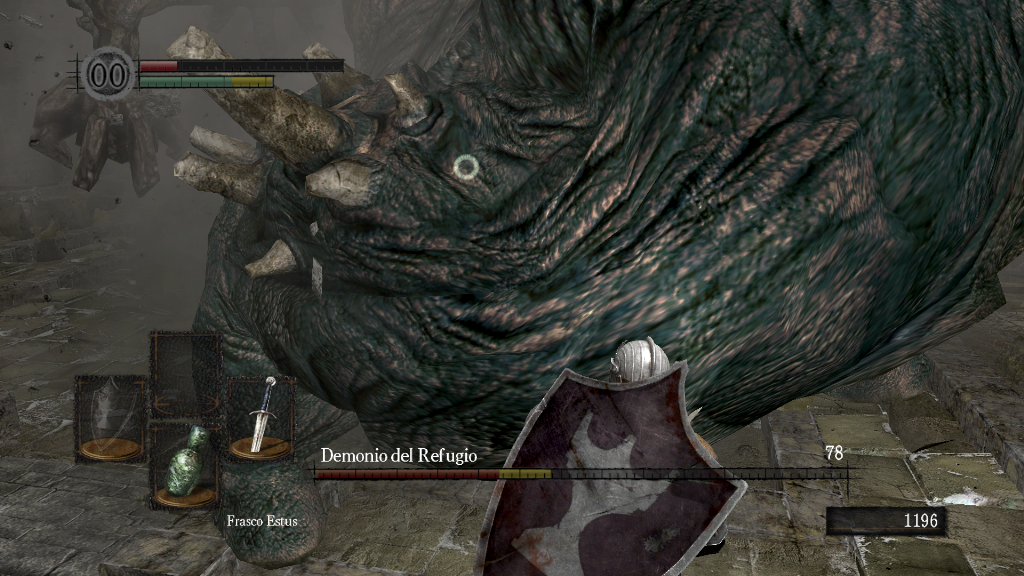asylumDemon: (31, 2, 1024, 576)
bossHP: (314, 469, 847, 479)
health: (138, 58, 343, 71)
humanity: (80, 45, 136, 102)
player: (476, 336, 748, 576)
souls: (825, 506, 945, 536)
stamina: (138, 74, 274, 88)
